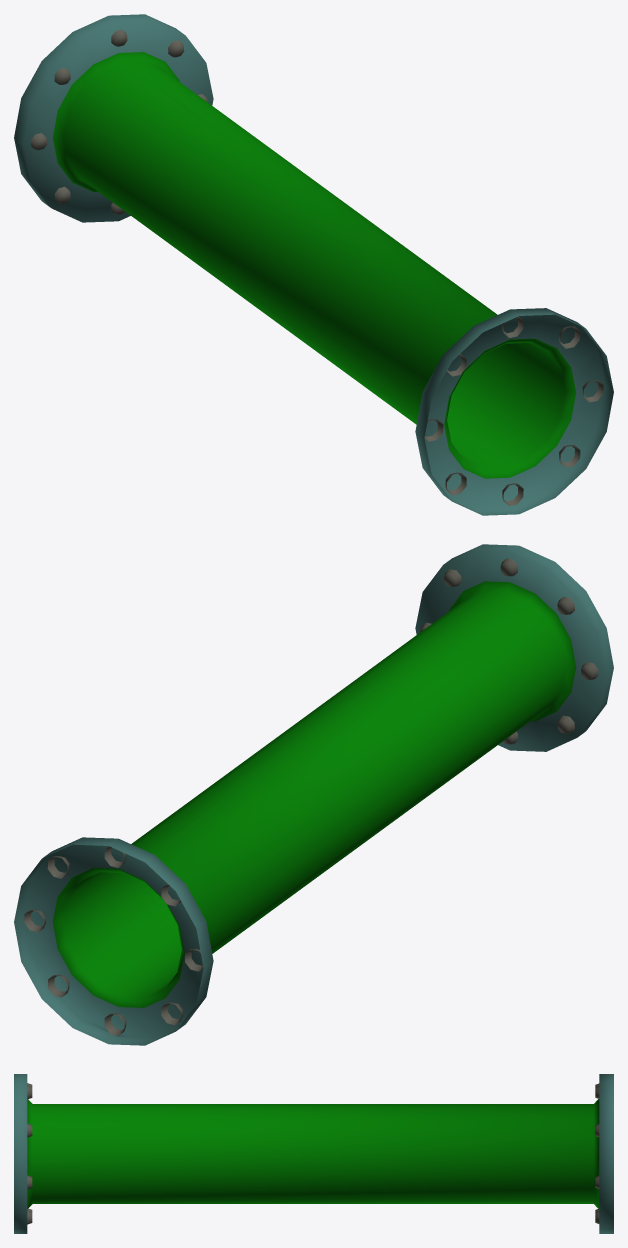
The model's file is Pipe.fbx.
The picture shows the model from 3 angles, top to bottom: view 1: azimuth 30°, elevation 25°; view 2: azimuth 150°, elevation 25°; view 3: azimuth 270°, elevation 25°; orthographic projection. The views are drawn at different scales.
Visible parts, largest first — view 1: Pipe; view 2: Pipe; view 3: Pipe.
Part boxes in pixels (bbox=[...]): Pipe: bbox=[14, 14, 613, 515]; Pipe: bbox=[14, 544, 613, 1045]; Pipe: bbox=[14, 1074, 613, 1233].
Bounding box in the file's own units: 128 × 128 × 480.
